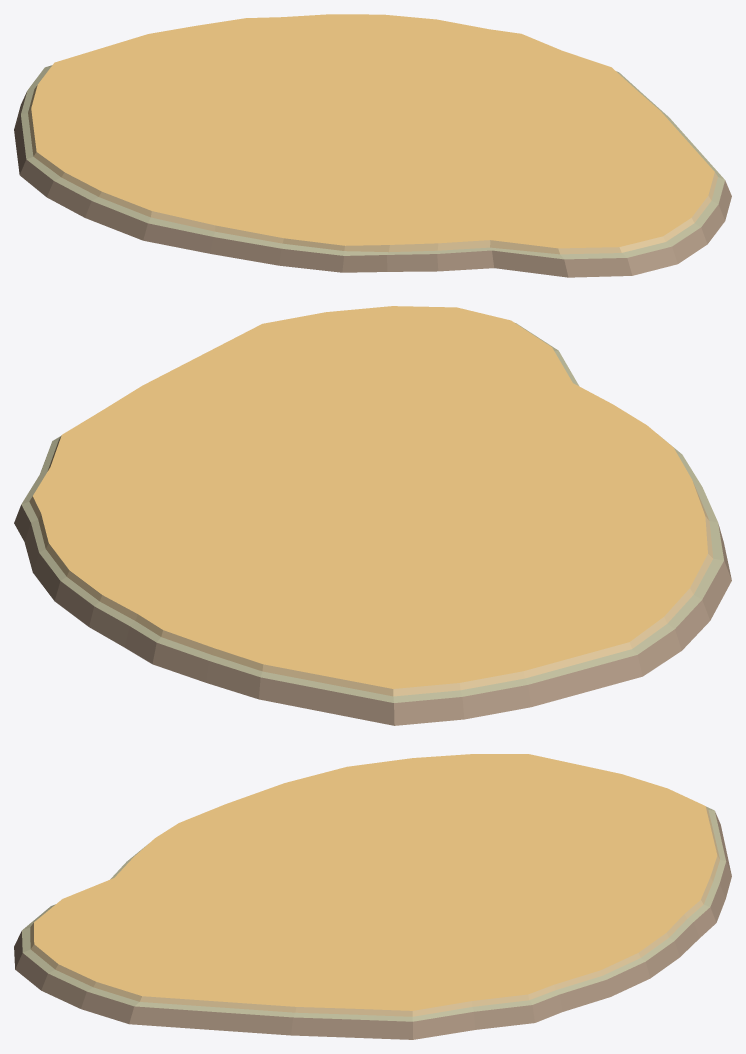
Rendered from groundPlatform4-brown.fbx.
3 views of the same model, one above another, from view 1: azimuth 30°, elevation 25°; view 2: azimuth 150°, elevation 25°; view 3: azimuth 270°, elevation 25° (orthographic). The views are drawn at different scales.
Visible parts, largest first — view 1: Cylinder.001; view 2: Cylinder.001; view 3: Cylinder.001.
Part boxes in pixels (x1,y1,x2,y2): Cylinder.001: (14, 14, 731, 277); Cylinder.001: (14, 306, 731, 725); Cylinder.001: (14, 754, 731, 1039).
Bounding box in the file's own units: 929 × 38.53 × 1040.
